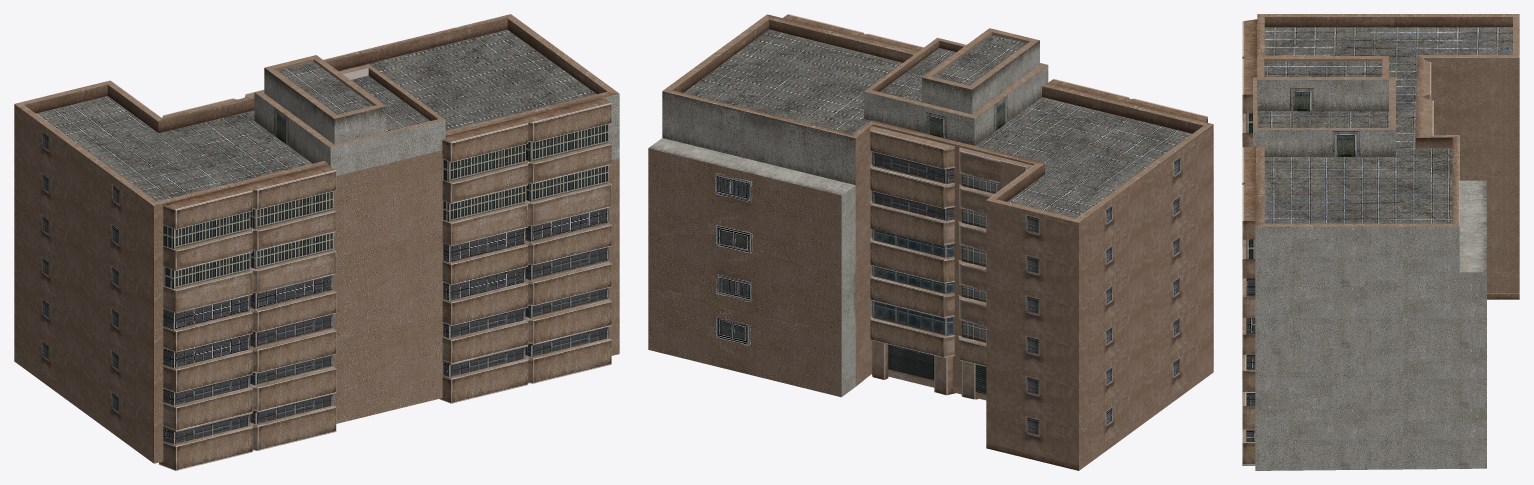
Rendered from buildings_01_02.FBX.
3 renders of one model, left to right at view 1: azimuth 30°, elevation 25°; view 2: azimuth 150°, elevation 25°; view 3: azimuth 270°, elevation 25°, orthographic. The views are drawn at different scales.
Visible parts, largest first — view 1: Object127; view 2: Object127; view 3: Object127.
Part boxes in pixels (bbox=[...]): Object127: bbox=[14, 14, 619, 470]; Object127: bbox=[648, 14, 1213, 470]; Object127: bbox=[1242, 14, 1519, 470].
Bounding box in the file's own units: 3681 × 2029 × 2312.
1 material, 1 textured.
